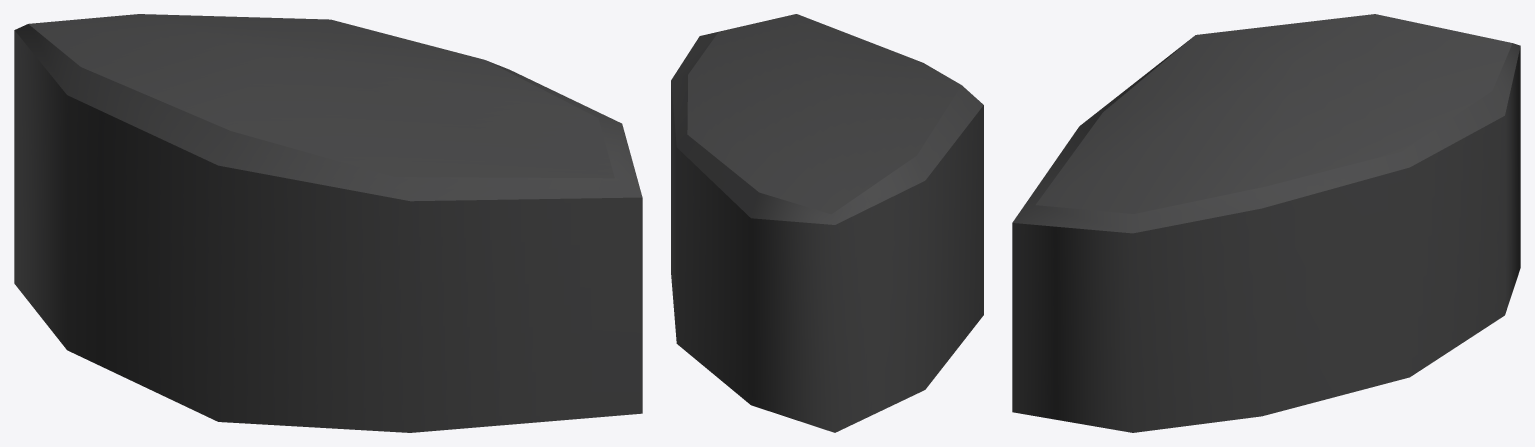
Rendered from Stone_I.fbx.
The picture shows the model from 3 angles, left to right: view 1: azimuth 30°, elevation 25°; view 2: azimuth 150°, elevation 25°; view 3: azimuth 270°, elevation 25°; orthographic projection. The views are drawn at different scales.
Parts seen in each view (by area): view 1: Stone_I; view 2: Stone_I; view 3: Stone_I.
Part boxes in pixels (left/top/right/bottom): Stone_I: left=14, top=14, right=642, bottom=432; Stone_I: left=671, top=14, right=983, bottom=432; Stone_I: left=1012, top=14, right=1520, bottom=432.
Bounding box in the file's own units: 77.27 × 52.61 × 93.55.
